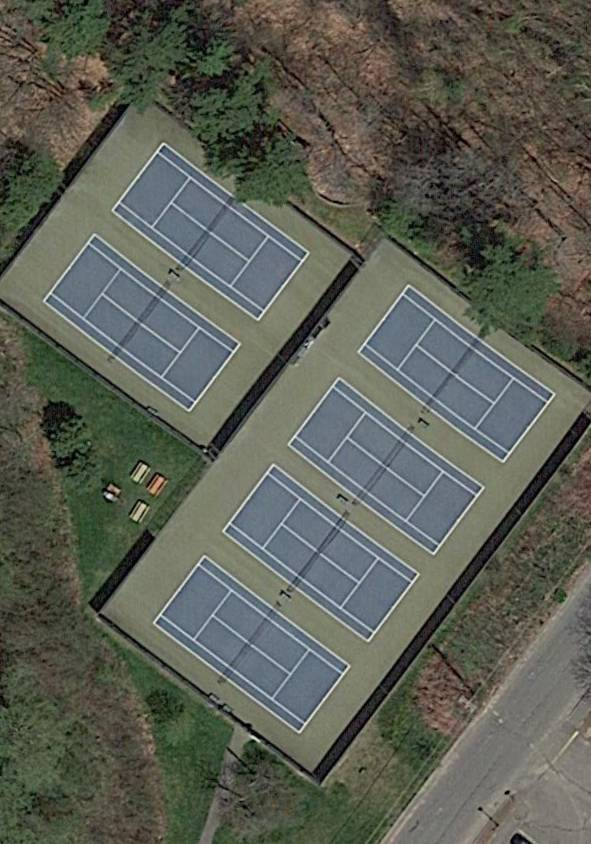tennis court: (110, 141, 312, 322), (43, 233, 243, 414), (153, 555, 352, 736), (287, 376, 487, 556), (357, 284, 557, 464), (222, 463, 421, 643)
